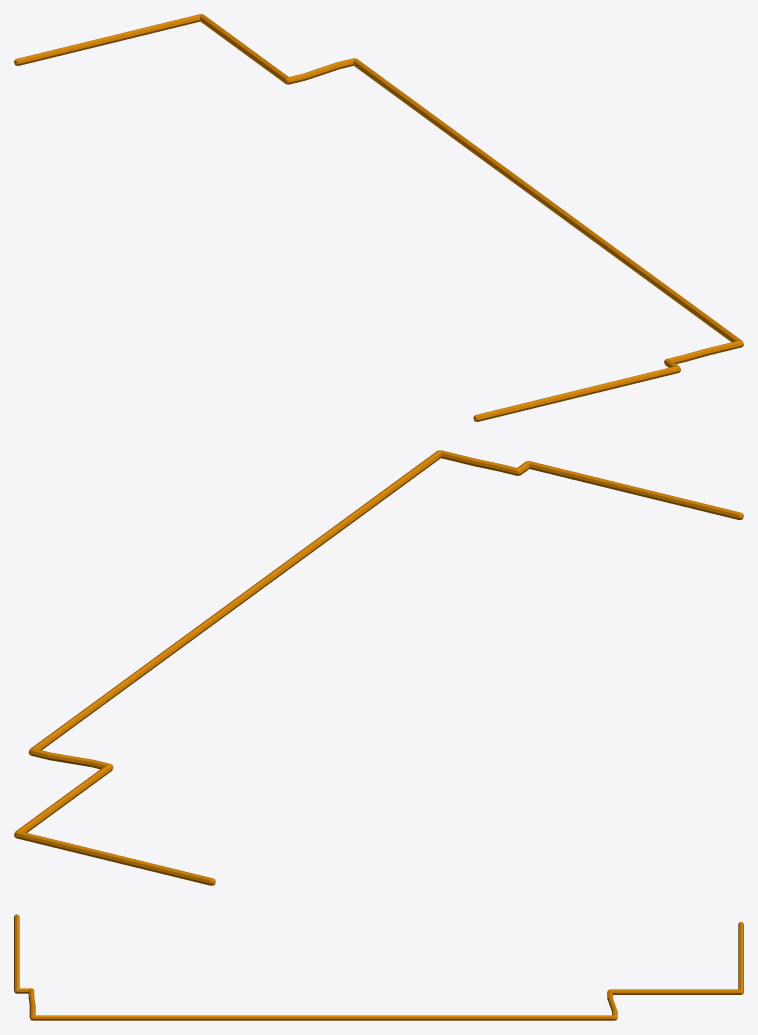
3 renders of one model, top to bottom at view 1: azimuth 30°, elevation 25°; view 2: azimuth 150°, elevation 25°; view 3: azimuth 270°, elevation 25°, orthographic. The views are drawn at different scales.
Bounding box in the file's own units: 839 × 20 × 2508.
